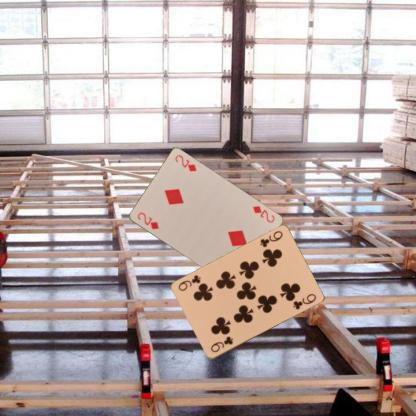2d: (250, 203, 276, 224), (135, 210, 160, 230)
9c: (257, 228, 284, 249), (208, 334, 234, 354)
